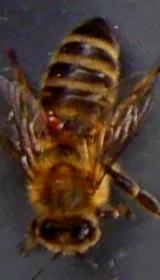varroa_mite: (39, 107, 66, 136)
